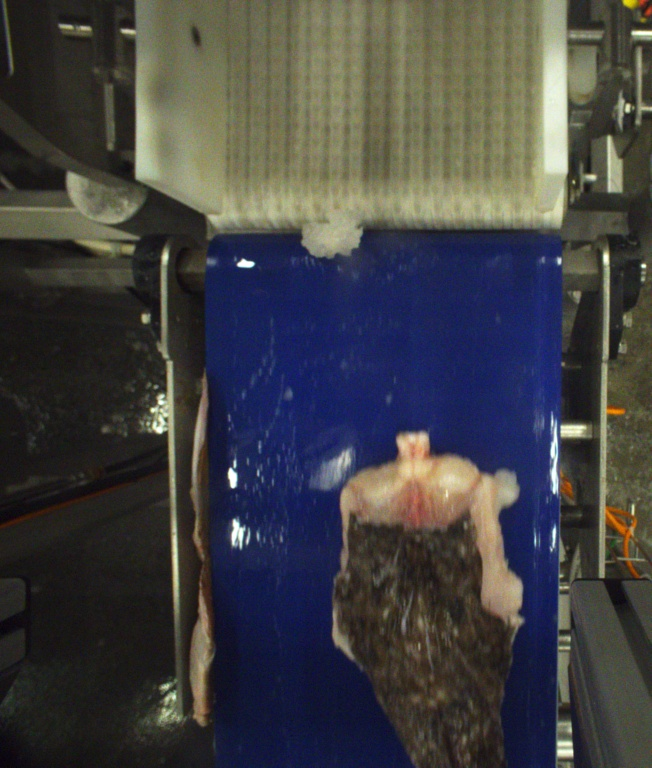ANF: (336, 429, 523, 768)
